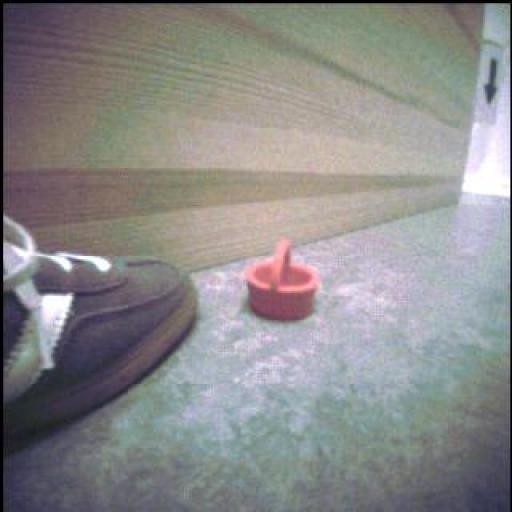Arrow: (486, 59, 499, 105)
Bucket: (246, 241, 319, 321)
